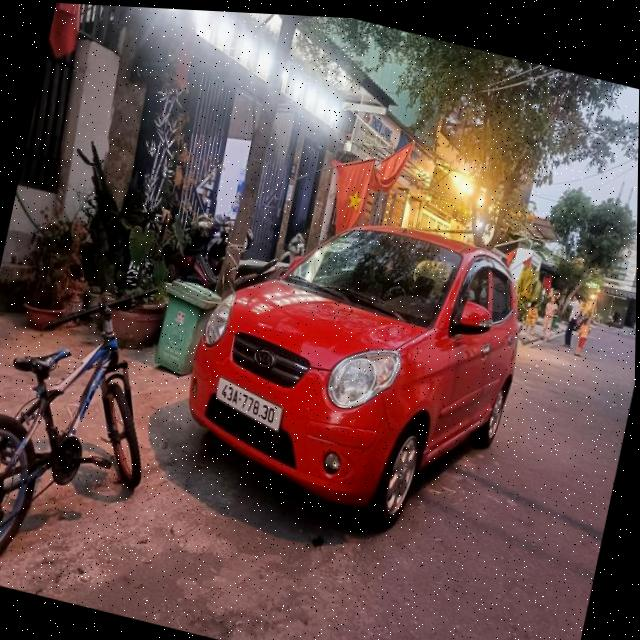car: (172, 180, 550, 556)
plate: (207, 374, 290, 436)
